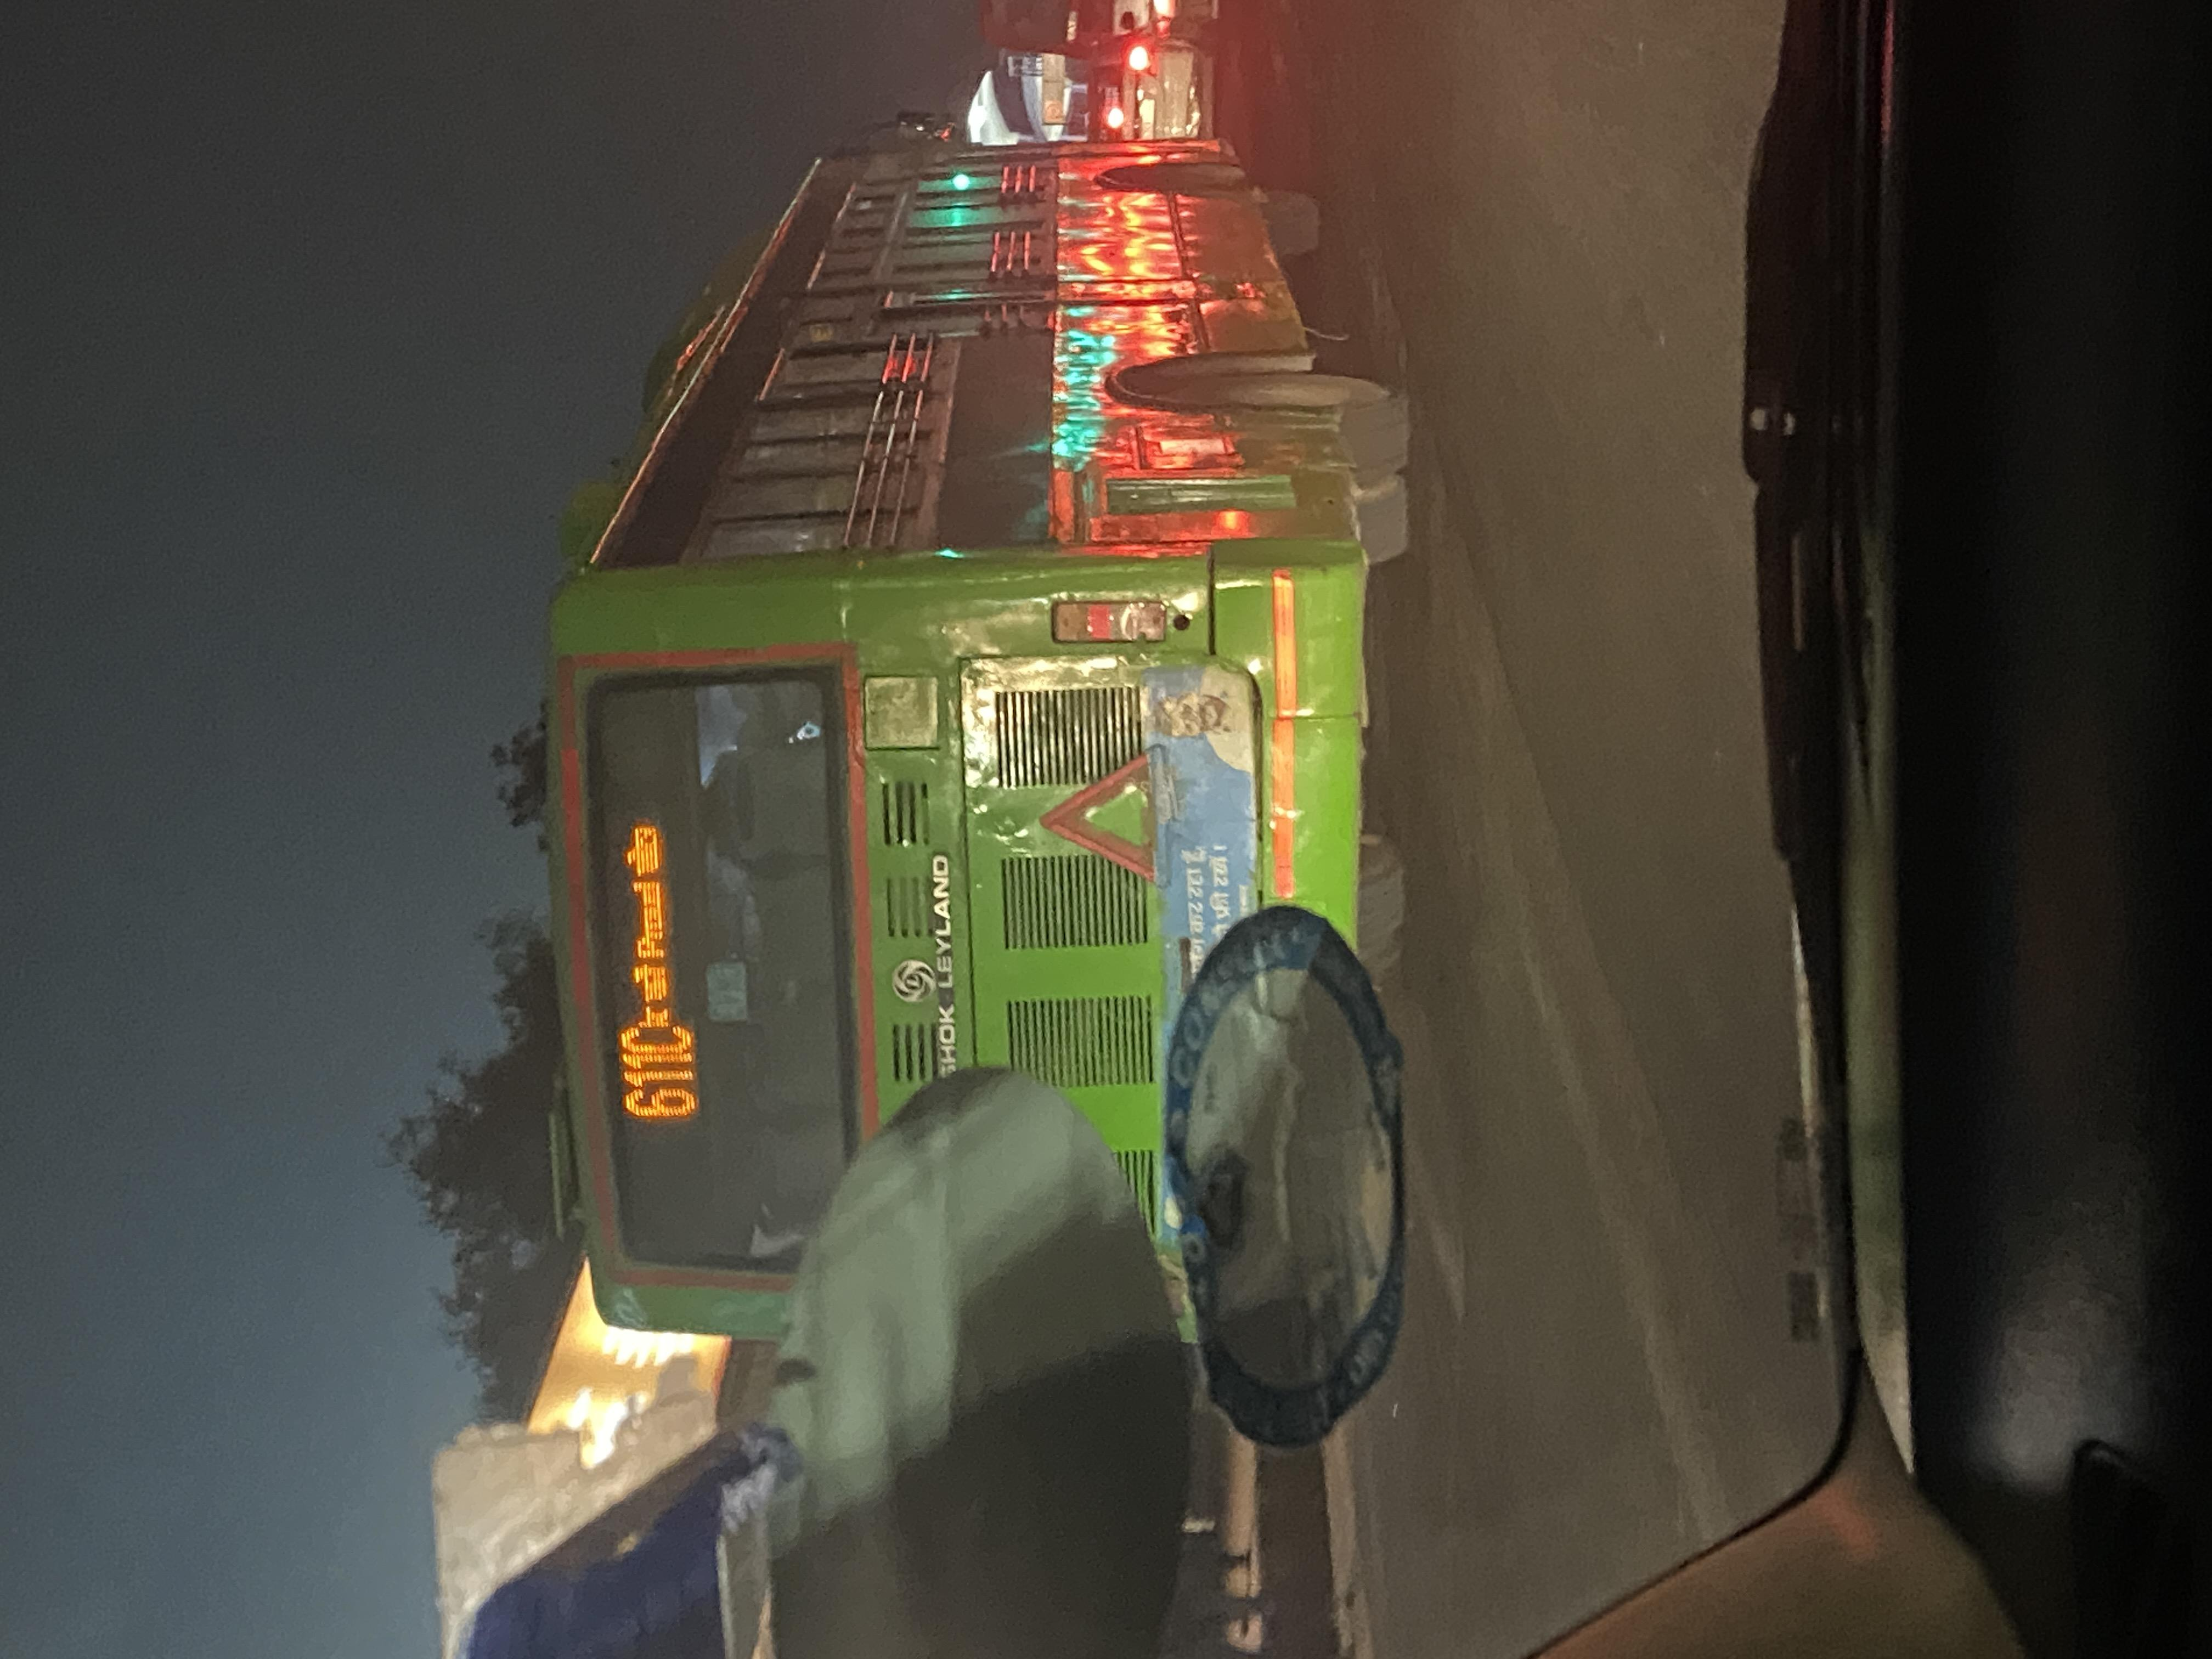Bus: (538, 565, 1437, 1410)
Display Board: (564, 779, 725, 1157)
